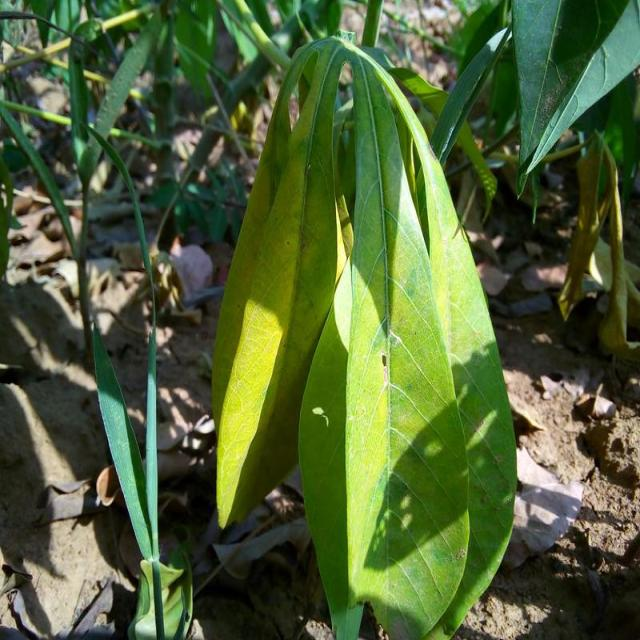cassava leaf: (210, 32, 518, 638)
